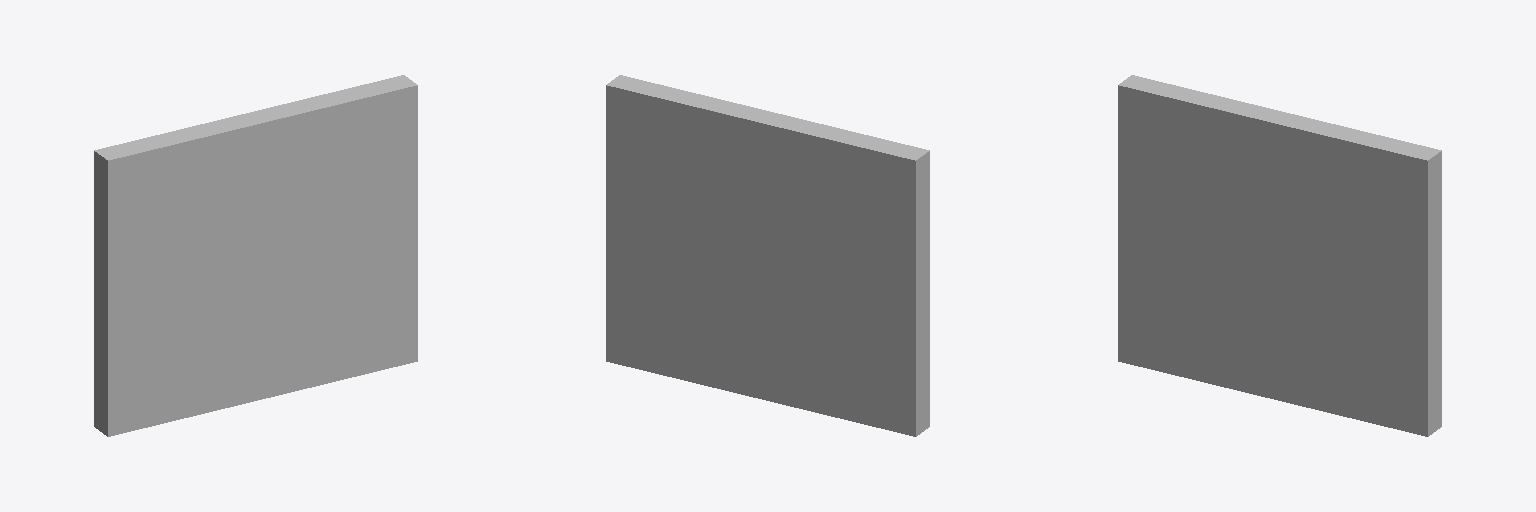
The model's file is FABRIC_WALL.obj.
3 renders of one model, left to right at view 1: azimuth 30°, elevation 25°; view 2: azimuth 150°, elevation 25°; view 3: azimuth 330°, elevation 25°, orthographic.
Parts seen in each view (by area): view 1: cuboid; view 2: cuboid; view 3: cuboid.
Boxes of the visible parts, <box> form: cuboid: <box>94,75,417,436</box>; cuboid: <box>606,75,929,436</box>; cuboid: <box>1118,75,1441,436</box>.
Bounding box in the file's own units: 3.38 × 2.88 × 0.2656.